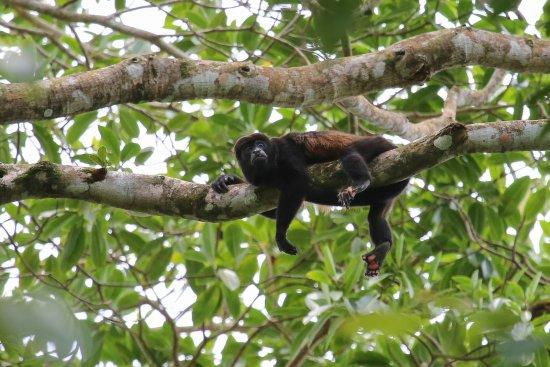monkey: (232, 119, 550, 275)
